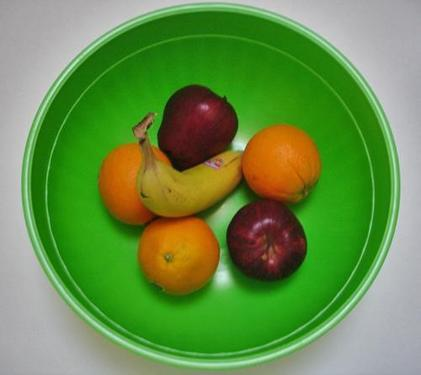apple: (224, 198, 319, 286), (157, 83, 243, 164)
banana: (133, 127, 247, 219)
orange: (136, 218, 226, 301), (242, 116, 325, 204), (97, 142, 173, 226)
